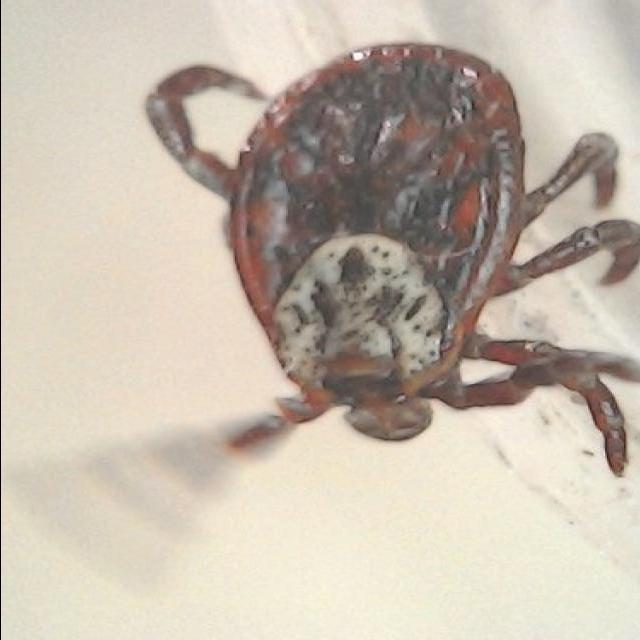Dermacentor Reticulatus-F: (142, 41, 640, 477)
